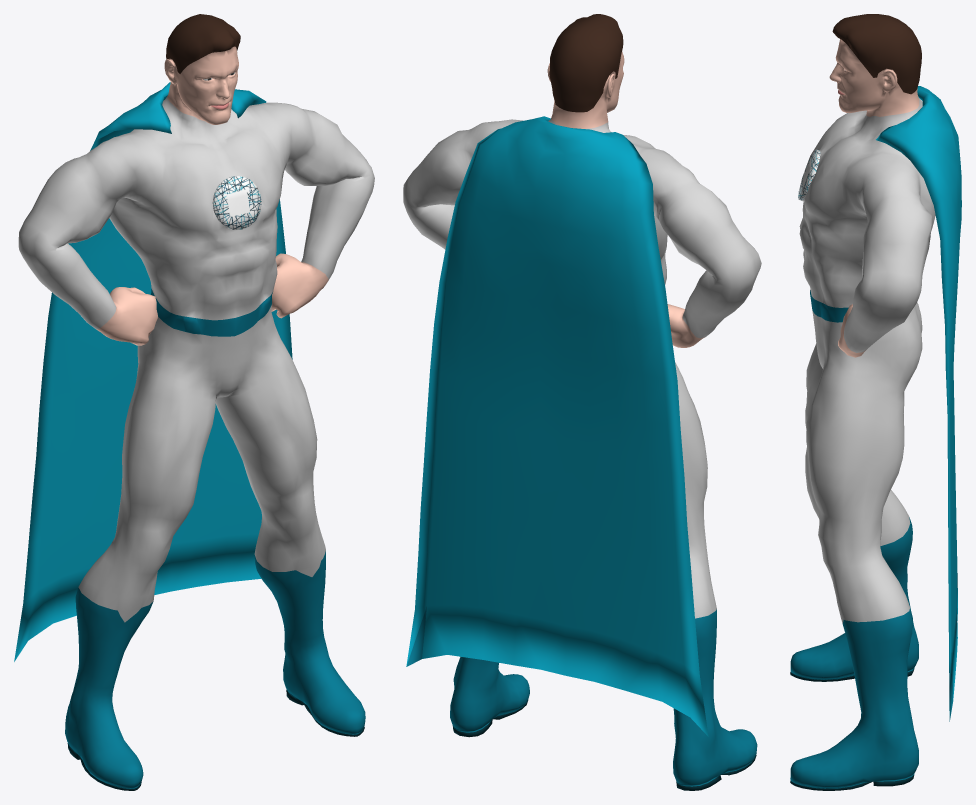
Rendered from superopenmaterialsshadeswrapnonodes.fbx.
The picture shows the model from 3 angles, left to right: view 1: azimuth 30°, elevation 25°; view 2: azimuth 150°, elevation 25°; view 3: azimuth 270°, elevation 25°; orthographic projection. The views are drawn at different scales.
Visible parts, largest first — view 1: SuperMan; view 2: SuperMan; view 3: SuperMan.
Boxes of the visible parts, box(x1,y1,x2,y2) form: SuperMan: box(14, 14, 374, 790); SuperMan: box(403, 14, 761, 790); SuperMan: box(790, 14, 961, 790).
Bounding box in the file's own units: 39.56 × 78.7 × 17.2.
